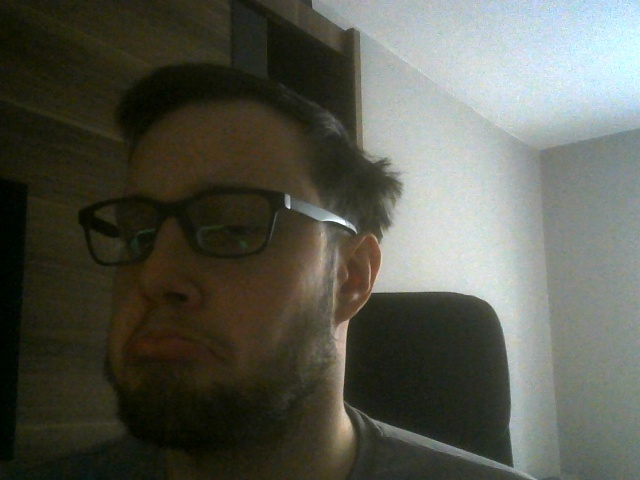neutral: (89, 67, 381, 446)
